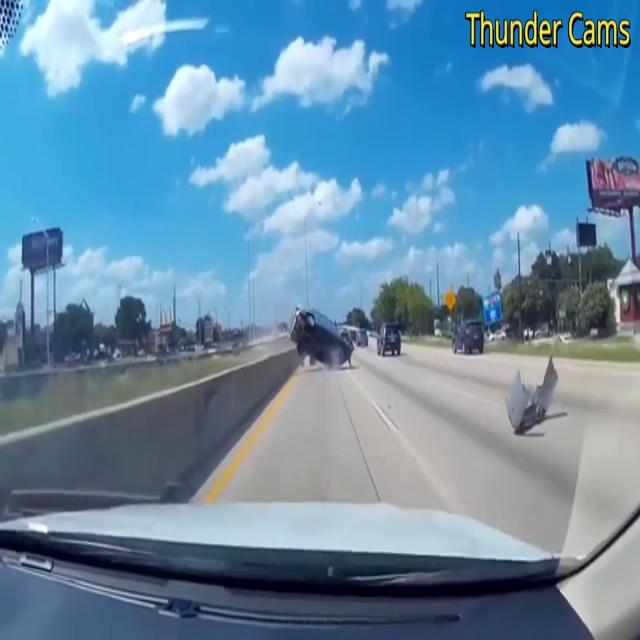accident: (295, 298, 354, 372)
